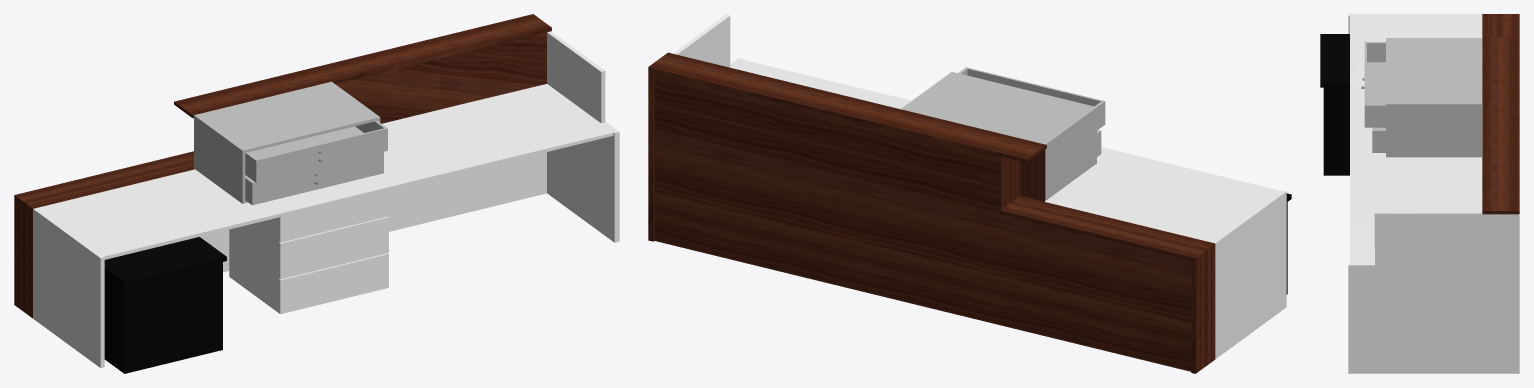
File: RECEPCION.fbx
3 views of the same model, side by side, from view 1: azimuth 30°, elevation 25°; view 2: azimuth 150°, elevation 25°; view 3: azimuth 270°, elevation 25° (orthographic). The views are drawn at different scales.
Parts seen in each view (by area): view 1: escritorio recepcion; view 2: escritorio recepcion; view 3: escritorio recepcion.
Part boxes in pixels (x1,y1,x2,y2): escritorio recepcion: (14,14,619,373); escritorio recepcion: (648,14,1291,373); escritorio recepcion: (1320,14,1519,373).
Size of the model in its own units: 282 by 85.43 by 94.5.
